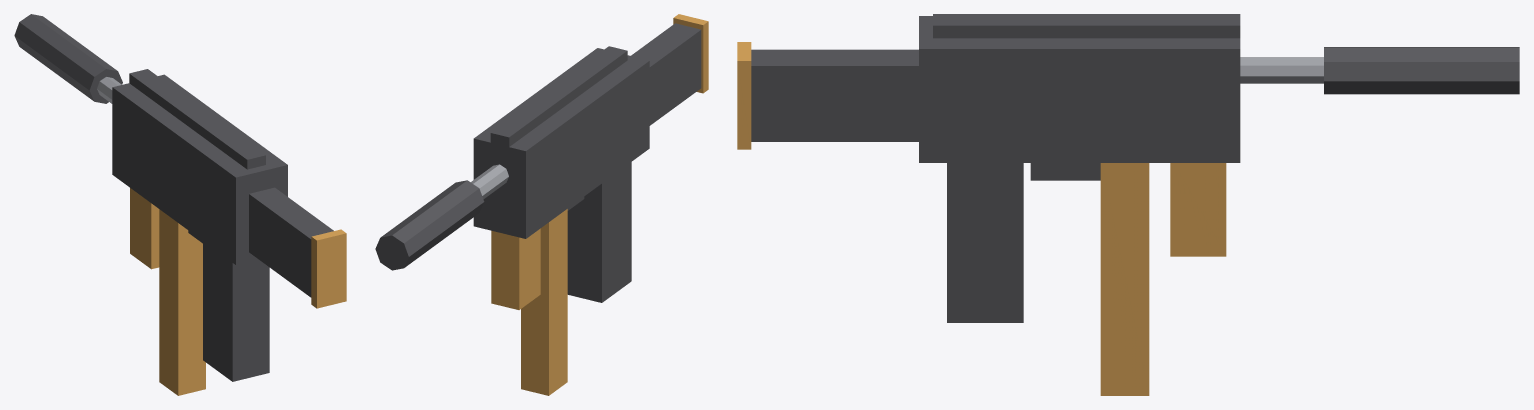
The model's file is smg.glb.
The picture shows the model from 3 angles, left to right: view 1: azimuth 30°, elevation 25°; view 2: azimuth 150°, elevation 25°; view 3: azimuth 270°, elevation 25°; orthographic projection. The views are drawn at different scales.
Visible parts, largest first — view 1: SMG; view 2: SMG; view 3: SMG.
Part boxes in pixels (box(x1,y1,x2,y2)): SMG: box(14, 14, 346, 395); SMG: box(375, 14, 708, 395); SMG: box(737, 14, 1519, 395).
Bounding box in the file's own units: 0.056 × 0.29 × 0.56.
